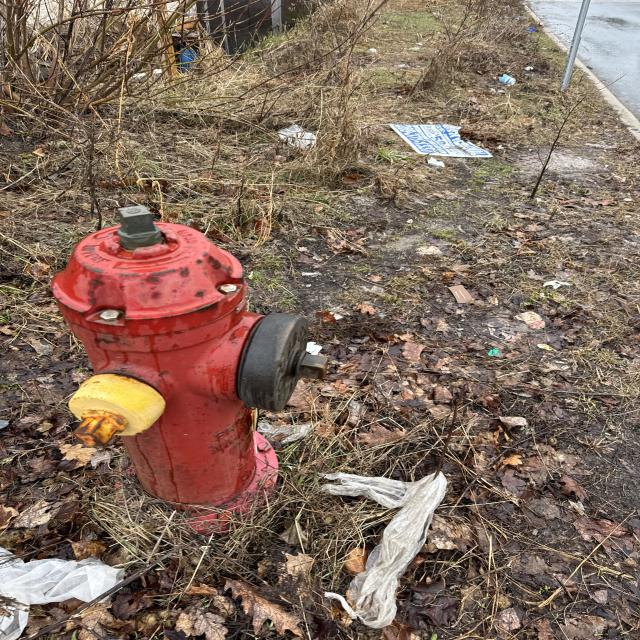Fire hydrant: (46, 205, 330, 534)
